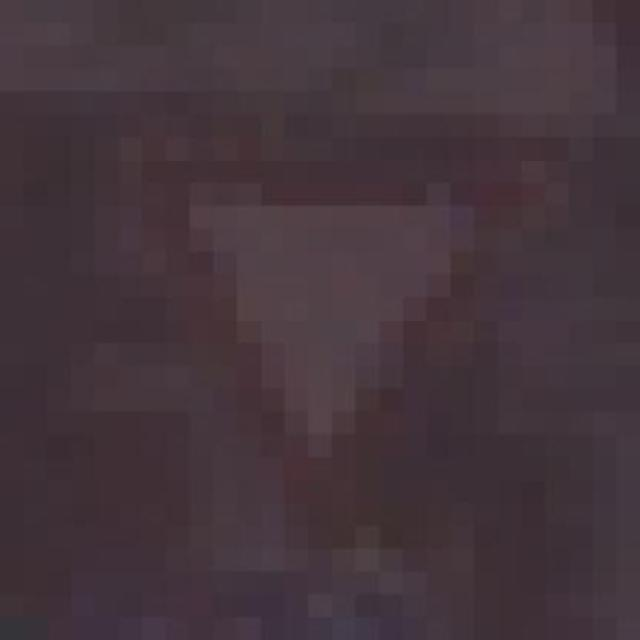Give Way: (94, 114, 568, 526)
